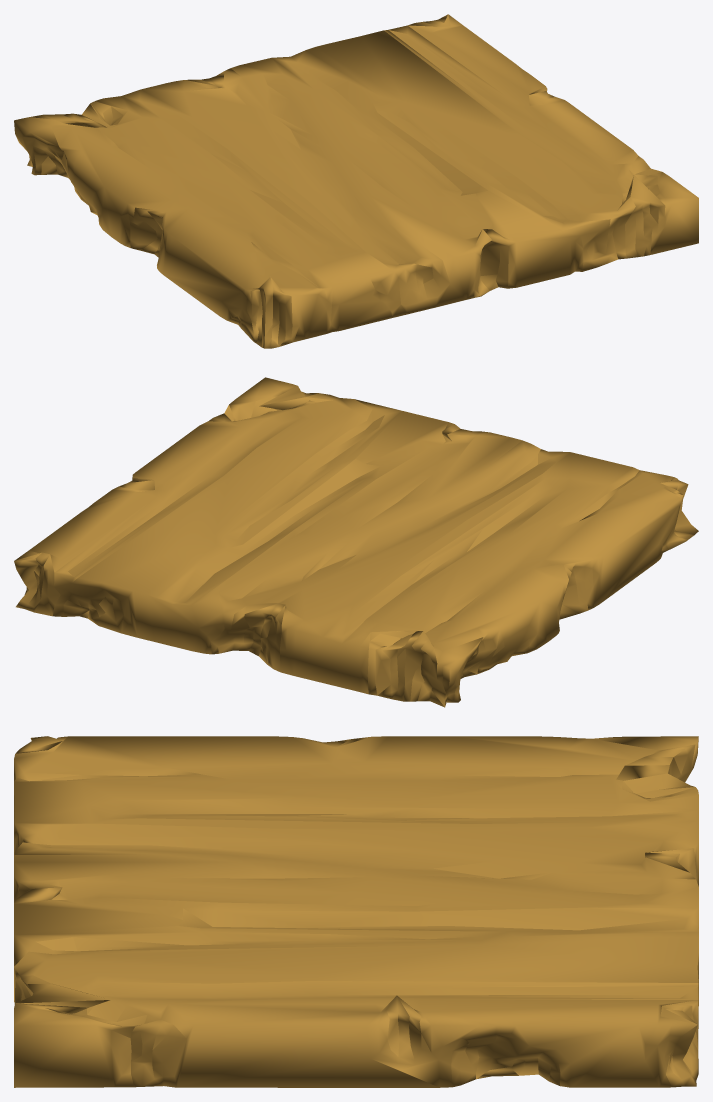
File: driftwoodpiece1.fbx
3 views of the same model, one above another, from view 1: azimuth 30°, elevation 25°; view 2: azimuth 150°, elevation 25°; view 3: azimuth 270°, elevation 25° (orthographic). The views are drawn at different scales.
Visible parts, largest first — view 1: Driftwood3; view 2: Driftwood3; view 3: Driftwood3.
Part boxes in pixels (x1,y1,x2,y2): Driftwood3: [14, 14, 698, 348]; Driftwood3: [14, 377, 698, 707]; Driftwood3: [14, 736, 698, 1087].
Size of the model in its own units: 200 by 31.92 by 200.
1 material, 1 textured.
